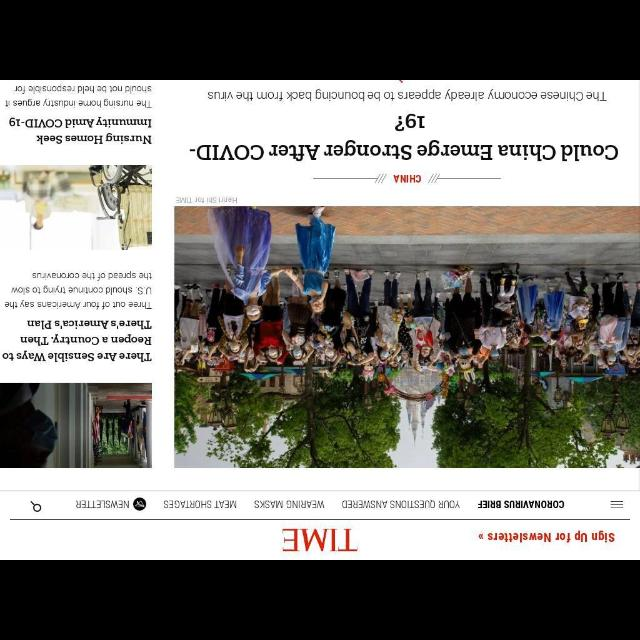icon: (133, 497, 147, 511), (28, 500, 42, 512), (609, 499, 623, 508)
image: (174, 206, 638, 468), (0, 384, 152, 468), (1, 165, 153, 248)
multitab: (75, 497, 565, 511)
text: (189, 113, 619, 161), (2, 320, 152, 362), (3, 270, 152, 310), (207, 88, 607, 102), (8, 118, 152, 144), (4, 85, 152, 108), (280, 528, 358, 552), (478, 530, 616, 542), (342, 500, 460, 510), (477, 500, 565, 510), (253, 500, 324, 510), (163, 499, 237, 508), (76, 500, 130, 510), (175, 196, 237, 204), (393, 174, 421, 182)
